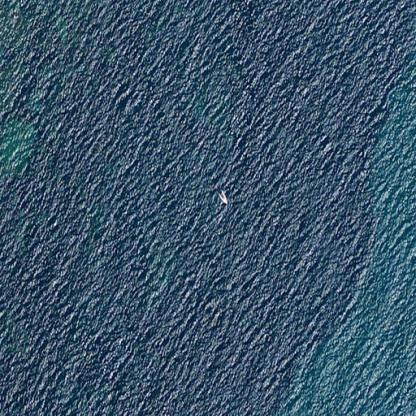ship: (218, 23, 229, 36)
